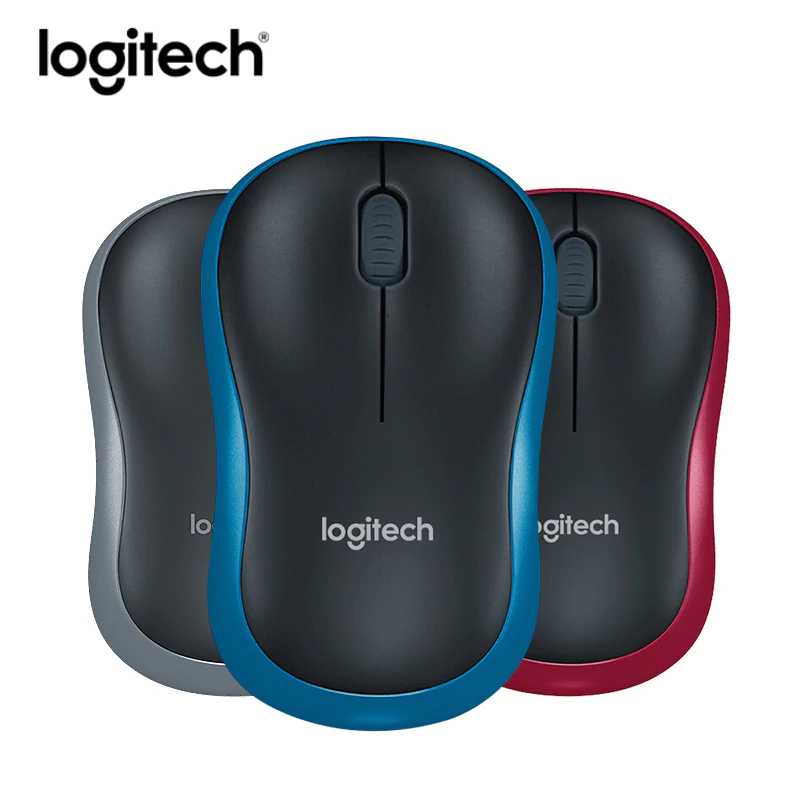logitech-mouse-m185: (203, 134, 564, 733)
